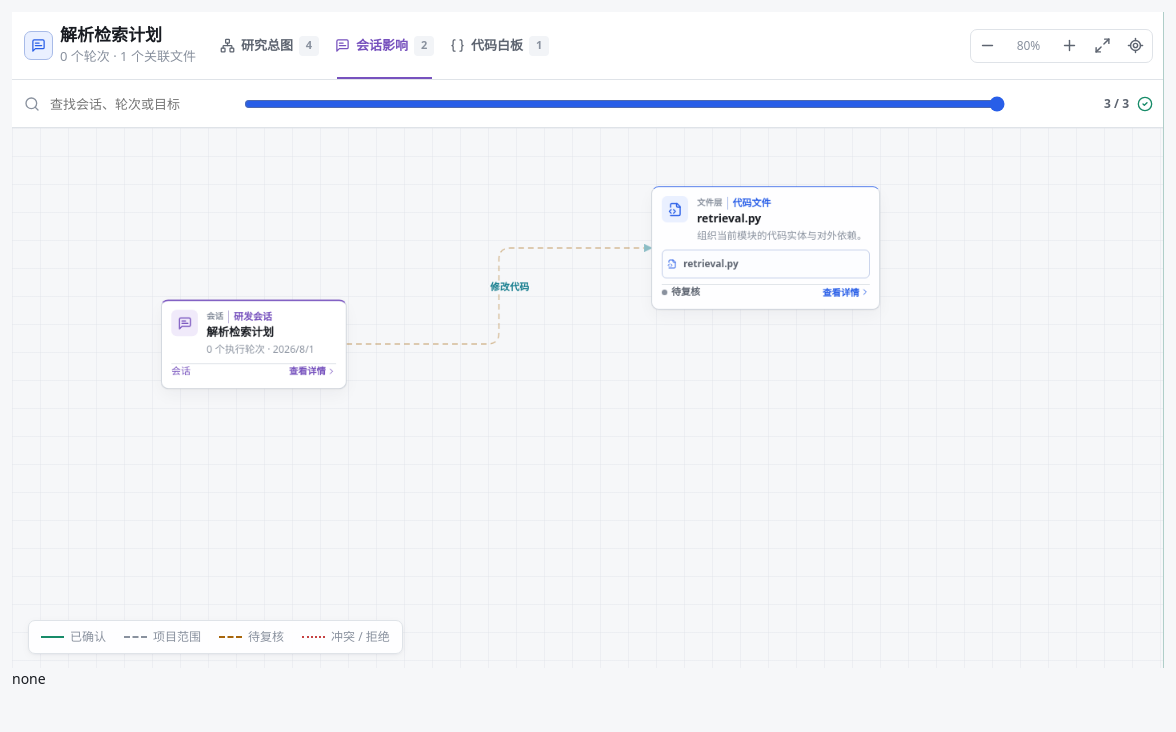
ResearchMap visible review navigation › persists a selected session node in the URL and exposes its review trail
Click the button "会话 解析检索计划".
click(254, 344)  # box 161,299 -> 346,389
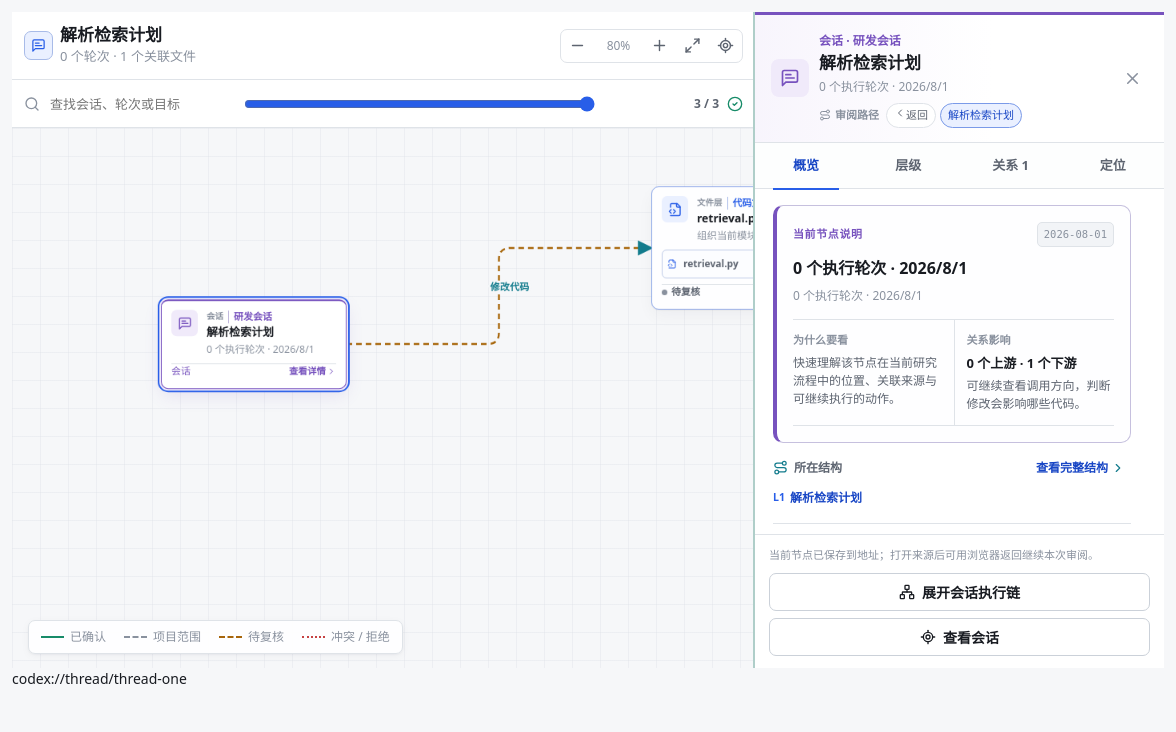
Expected: the heading "解析检索计划" next to "80%" is shown, 60,23 -> 162,46
Expected: the text with test id "focus-location" reads "codex://thread/thread-one", 12,669 -> 187,688
